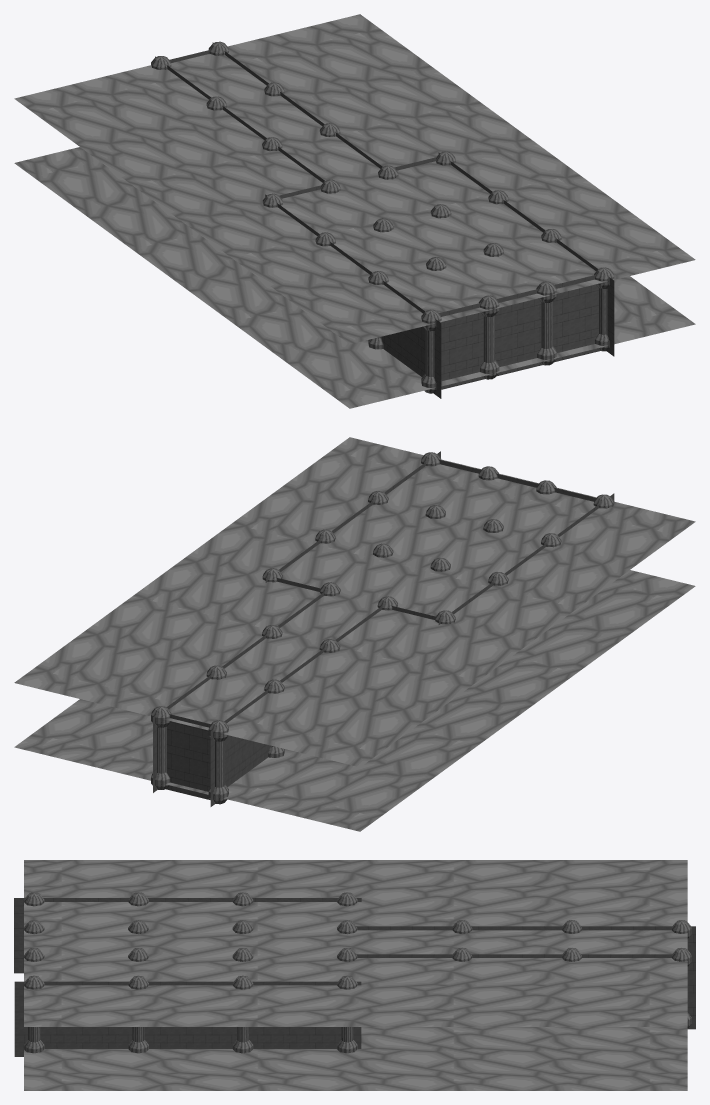
File: LeverRoom.fbx
3 views of the same model, one above another, from view 1: azimuth 30°, elevation 25°; view 2: azimuth 150°, elevation 25°; view 3: azimuth 270°, elevation 25° (orthographic).
Visible parts, largest first — view 1: Plane; view 2: Plane; view 3: Plane.
Part boxes in pixels (x1=…): Plane: x1=14, y1=14, x2=695, y2=408; Plane: x1=14, y1=437, x2=695, y2=831; Plane: x1=14, y1=860, x2=695, y2=1090.
Size of the model in its own units: 3600 by 820 by 6213.
